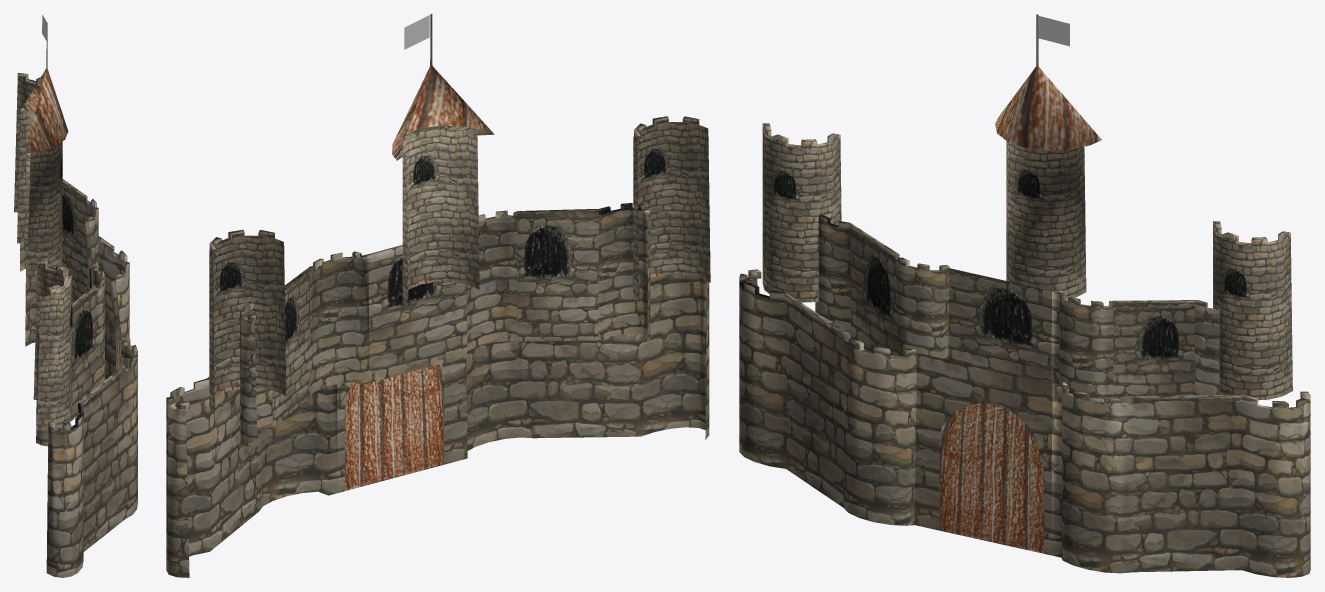
File: Castello.fbx
The picture shows the model from 3 angles, left to right: view 1: azimuth 30°, elevation 25°; view 2: azimuth 150°, elevation 25°; view 3: azimuth 270°, elevation 25°; orthographic projection. The views are drawn at different scales.
Parts seen in each view (by area): view 1: Cylinder.001; view 2: Cylinder.001; view 3: Cylinder.001.
Part boxes in pixels (x1,y1,x2,y2): Cylinder.001: (14,15,137,577); Cylinder.001: (166,14,710,577); Cylinder.001: (739,14,1310,577).
Bounding box in the file's own units: 177 × 297 × 309.
